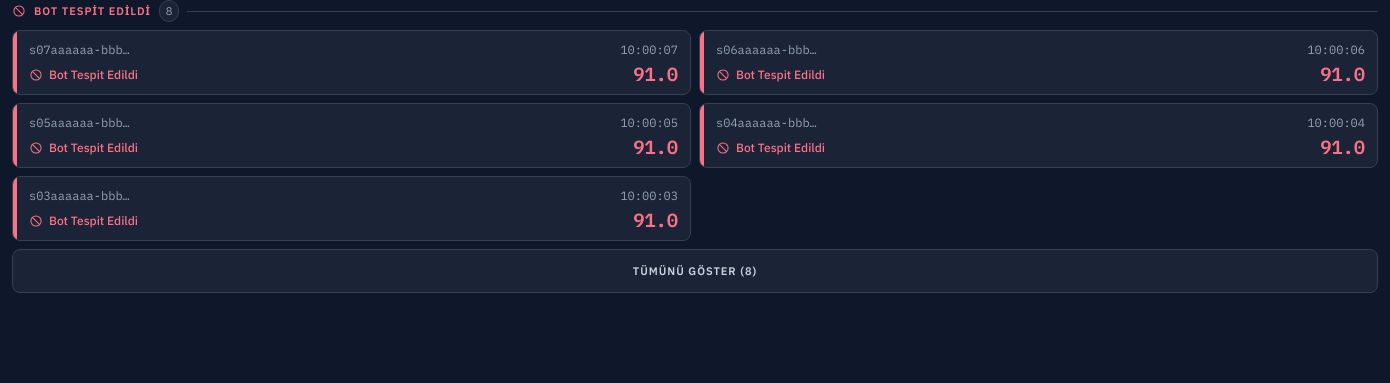
it: SessionTable › reports expanded state on the show-all toggle
Step 1. Click the button "Tümünü Göster (8)" → (695, 271), box x1=12 y1=249 x2=1378 y2=293
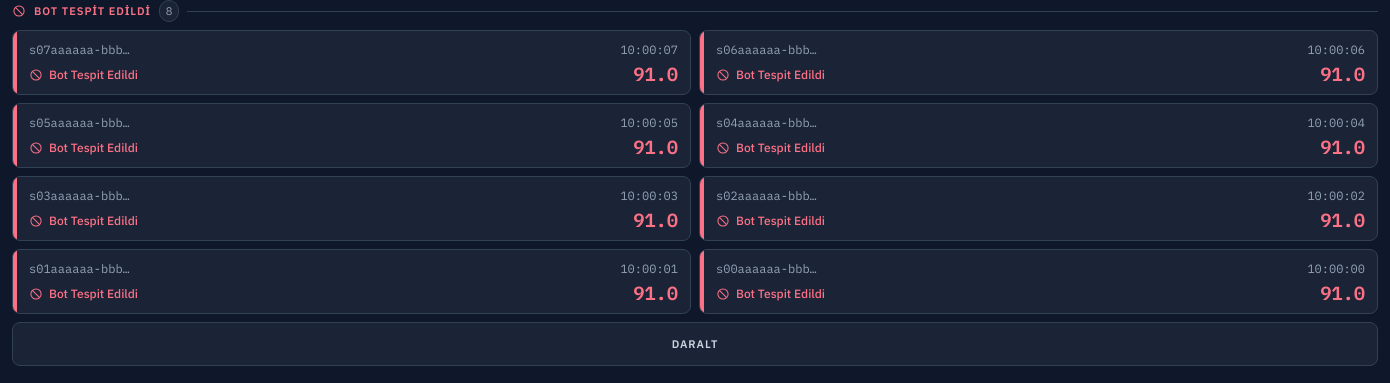
expect the button "Daralt" is expanded: met, box x1=12 y1=322 x2=1378 y2=366
